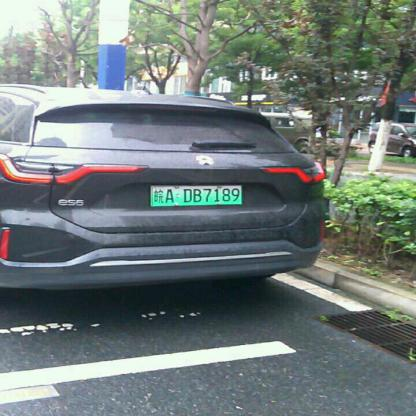lp: (149, 184, 242, 206)
